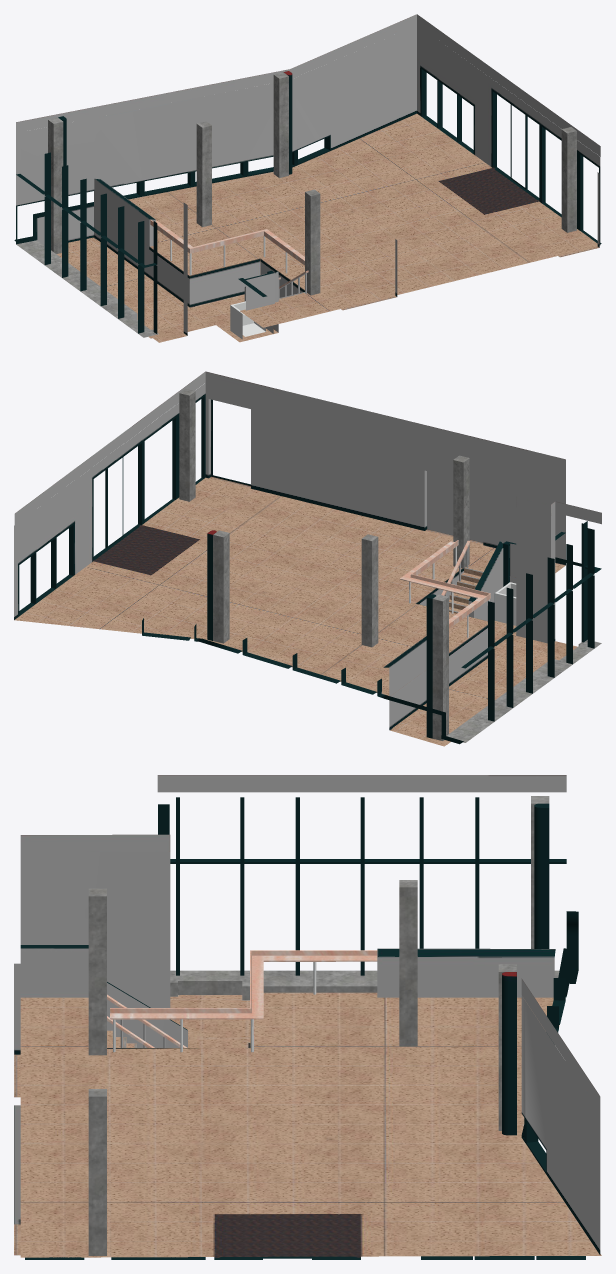
The model's file is exhibition_space_3.glb.
The picture shows the model from 3 angles, top to bottom: view 1: azimuth 30°, elevation 25°; view 2: azimuth 150°, elevation 25°; view 3: azimuth 270°, elevation 25°; orthographic projection. The views are drawn at different scales.
Visible parts, largest first — view 1: polySurface109; view 2: polySurface109; view 3: polySurface109.
Boxes of the visible parts, x1,y1,x2,y2 form: polySurface109: [14, 14, 601, 342]; polySurface109: [14, 371, 601, 746]; polySurface109: [14, 775, 601, 1259].
Bounding box in the file's own units: 20 × 6 × 15.27.
1 material, 1 textured.
